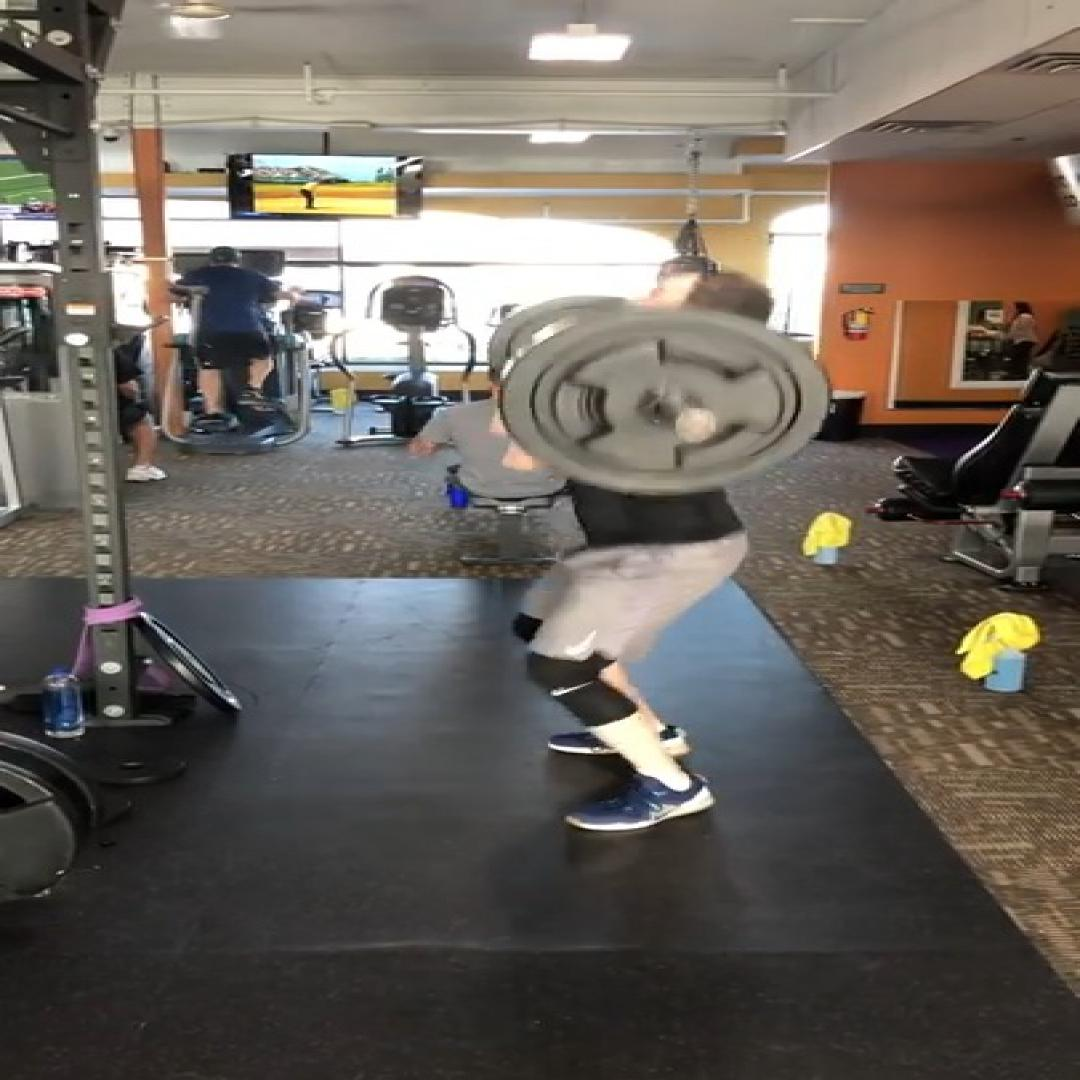Bar: (673, 408, 718, 446)
Barbell: (497, 309, 830, 497)
